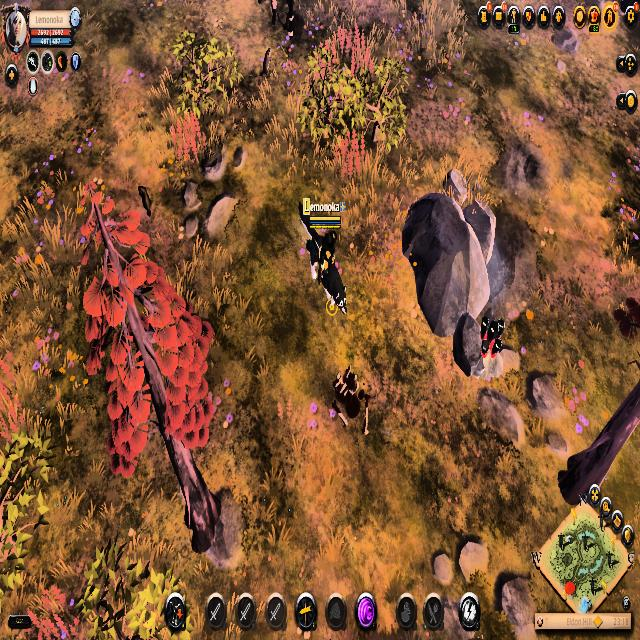ore tier 5: (474, 313, 507, 379)
wood tier 5: (78, 176, 218, 485)
